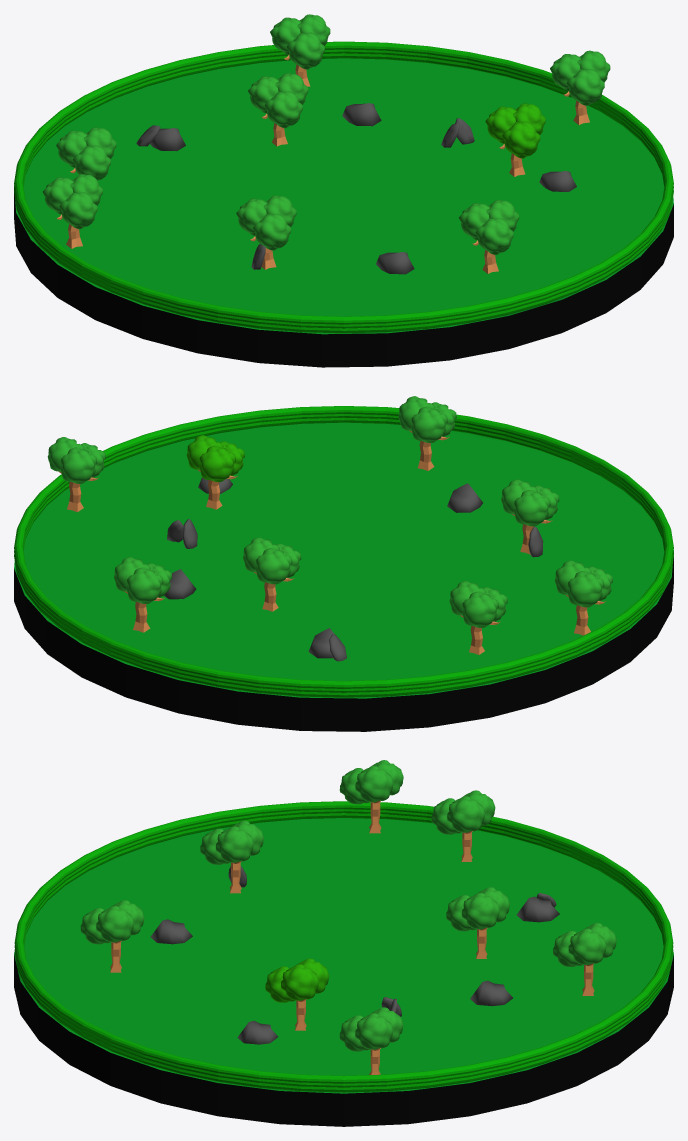
The model's file is Grassland donut barrier.fbx.
The picture shows the model from 3 angles, top to bottom: view 1: azimuth 30°, elevation 25°; view 2: azimuth 150°, elevation 25°; view 3: azimuth 270°, elevation 25°; orthographic projection.
Parts seen in each view (by area): view 1: Environemnt Floor, Torus.002, Torus, Torus.001, Leaves.009, Leaves.003, Leaves.016, Leaves.022, Leaves.013, Leaves.019, Leaves.004, Leaves.012 (+20 smaller); view 2: Environemnt Floor, Torus.002, Torus, Torus.001, Leaves.014, Leaves.005, Leaves.020, Leaves.008, Leaves.011, Leaves.017, Leaves.002, Leaves.023 (+11 smaller); view 3: Environemnt Floor, Torus.002, Torus, Torus.001, Leaves.015, Leaves.021, Leaves.024, Leaves.001, Leaves.006, Leaves.010, Leaves.018, Leaves.007 (+12 smaller).
Part boxes in pixels (x1,y1,x2,y2): Environemnt Floor: (14, 58, 673, 367); Torus.002: (14, 41, 673, 324); Torus: (14, 53, 673, 333); Torus.001: (14, 49, 673, 328); Leaves.009: (502, 121, 540, 158); Leaves.003: (59, 192, 97, 229); Leaves.016: (264, 91, 302, 128); Leaves.022: (287, 32, 324, 69); Leaves.013: (253, 213, 290, 250); Leaves.019: (475, 218, 513, 255); Leaves.004: (567, 69, 604, 105); Leaves.012: (73, 145, 110, 180); Environemnt Floor: (14, 422, 673, 731); Torus.002: (14, 406, 673, 688); Torus: (14, 417, 673, 697); Torus.001: (14, 414, 673, 692); Leaves.014: (513, 490, 550, 526); Leaves.005: (60, 447, 97, 483); Leaves.020: (410, 406, 447, 443); Leaves.008: (199, 445, 235, 482); Leaves.011: (462, 591, 498, 627); Leaves.017: (255, 548, 292, 584); Leaves.002: (567, 571, 604, 607); Leaves.023: (126, 567, 163, 603); Environemnt Floor: (14, 818, 673, 1126); Torus.002: (14, 801, 673, 1083); Torus: (14, 813, 673, 1092); Torus.001: (14, 809, 673, 1087); Leaves.015: (215, 826, 253, 862); Leaves.021: (96, 906, 134, 942); Leaves.024: (568, 928, 606, 964); Leaves.001: (355, 766, 393, 802); Leaves.006: (355, 1013, 393, 1049); Leaves.010: (447, 796, 485, 832); Leaves.018: (461, 893, 499, 929); Leaves.007: (281, 964, 319, 1000).
Size of the model in its own units: 3600 by 606 by 3600.
Materials: 31 (1 with a texture image).
